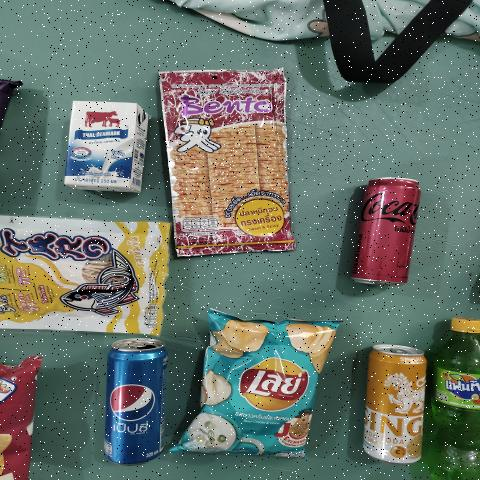bento_red: (162, 70, 286, 252)
coke_red: (361, 175, 412, 289)
fanta_green: (437, 318, 480, 473)
lay_blue: (205, 309, 329, 454)
pepsi_blue: (106, 338, 171, 464)
singha_yellow: (368, 342, 423, 461)
taro_yellow: (0, 216, 161, 334)
thai_denmark: (71, 101, 140, 188)
